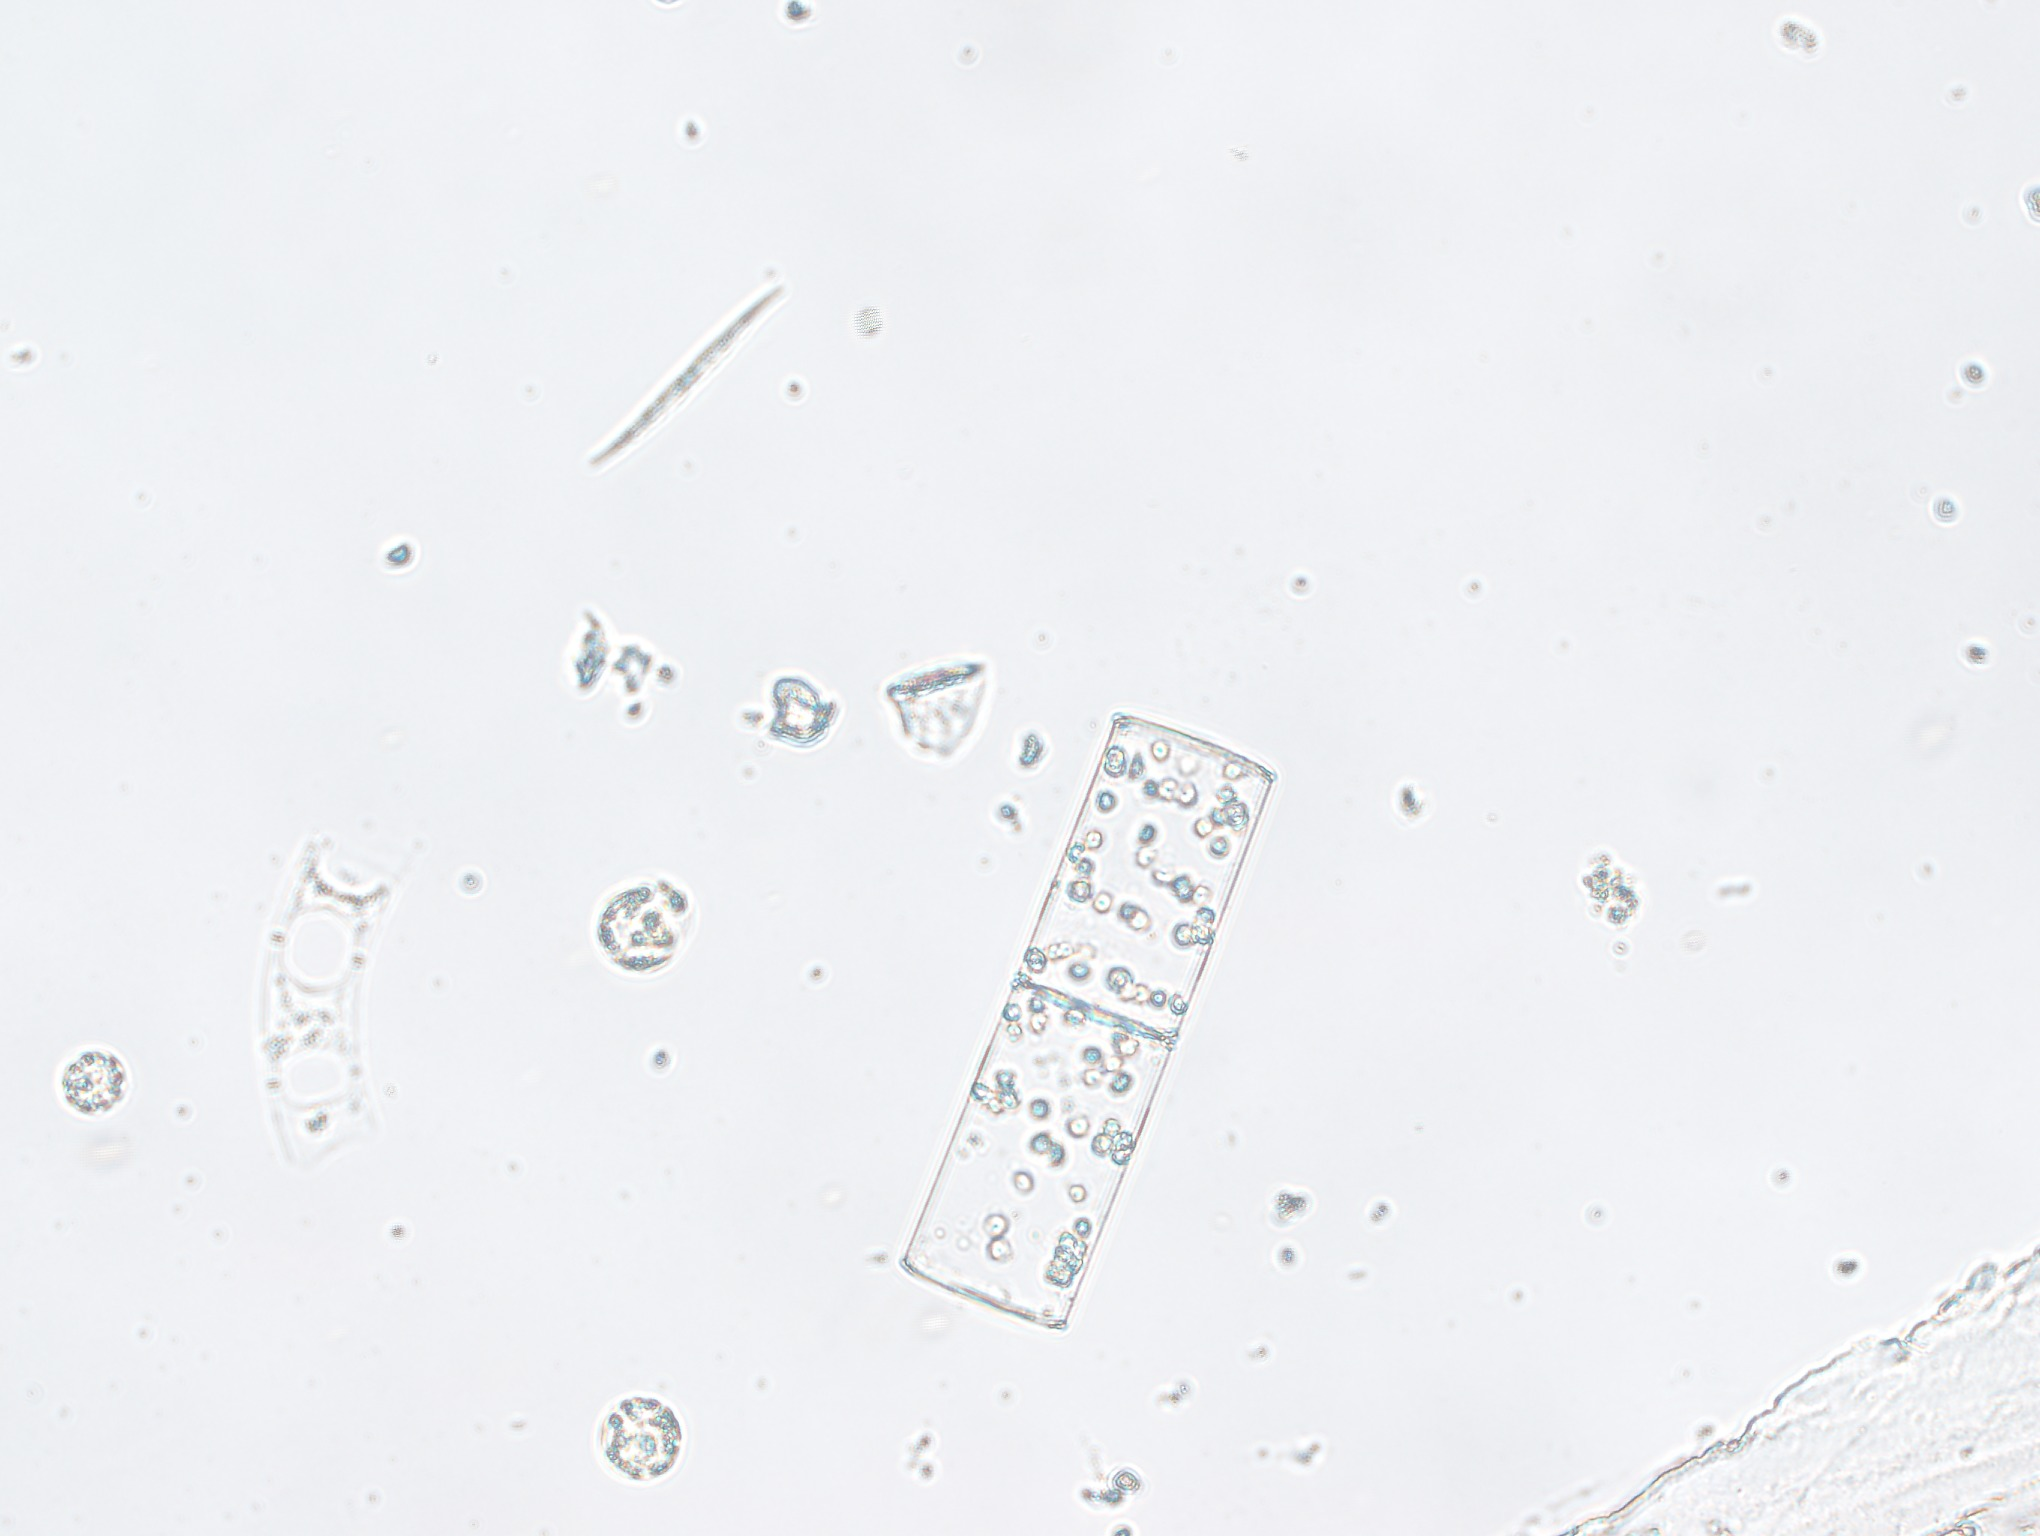eucampia: (213, 821, 440, 1192)
guinardia flaccida: (897, 687, 1287, 1349)
pleurosigma pelagicum: (556, 252, 798, 474)
